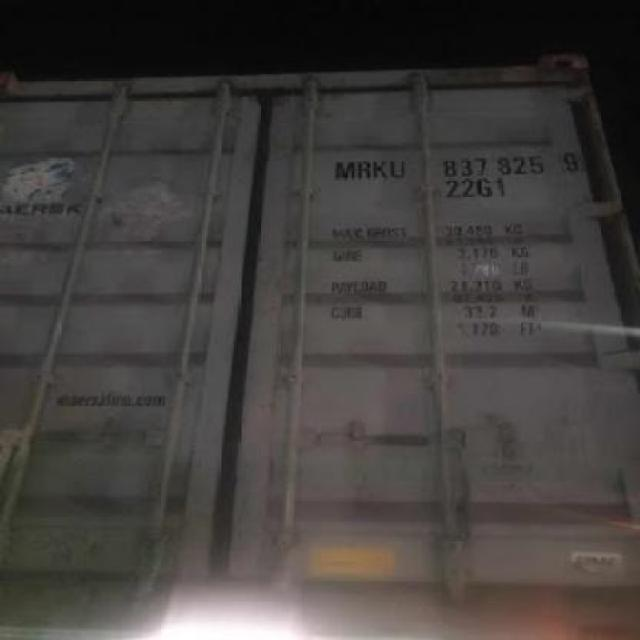ISO: (455, 178, 507, 198)
container_number: (339, 148, 581, 178)
